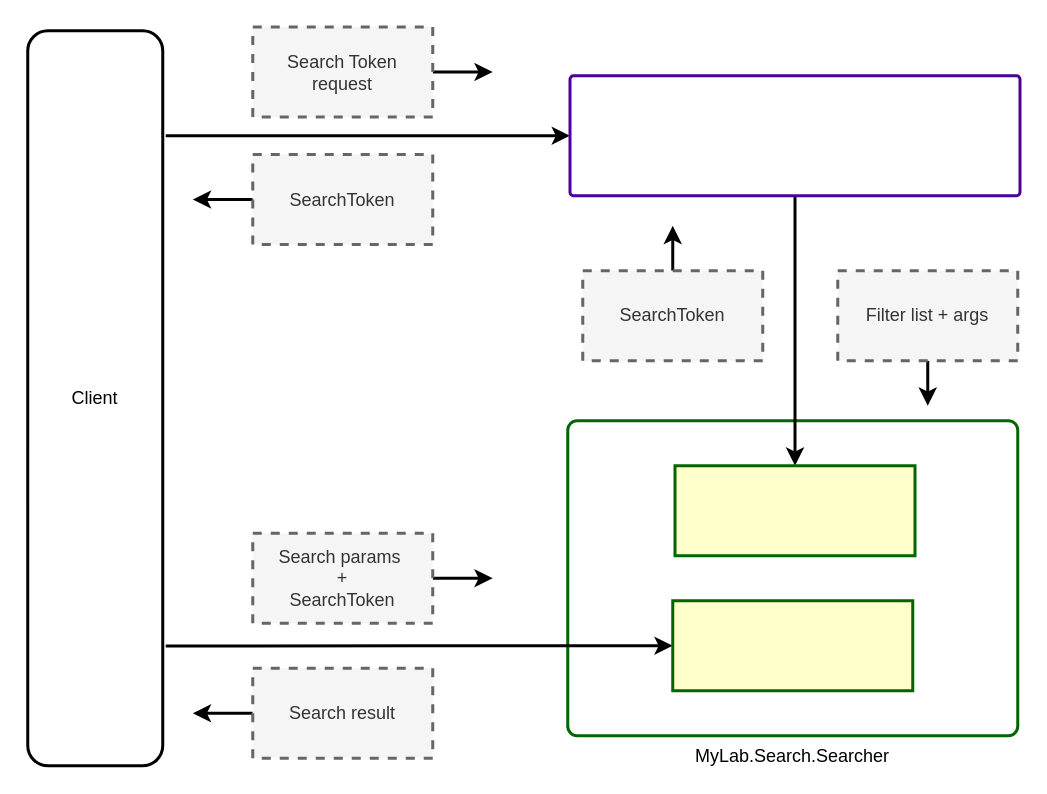
Image size: 1047x794. Some labels were removed from this diagram. The shapes that lost their labels are listed below. From the top down, each one's centre as x and y in pixels, then its label:
At pixel 794 135: "Some API".
At pixel 794 510: "Token Service".
At pixel 792 645: "Request Processing".
